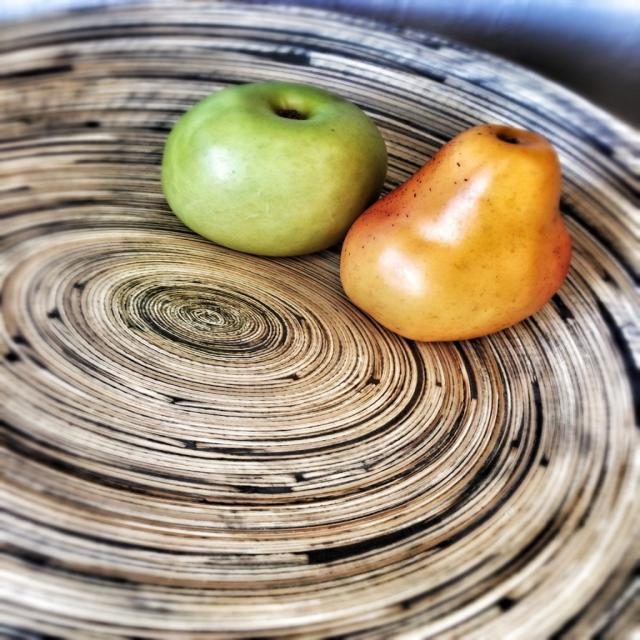apple: (160, 79, 385, 256)
pear: (337, 138, 571, 344)
